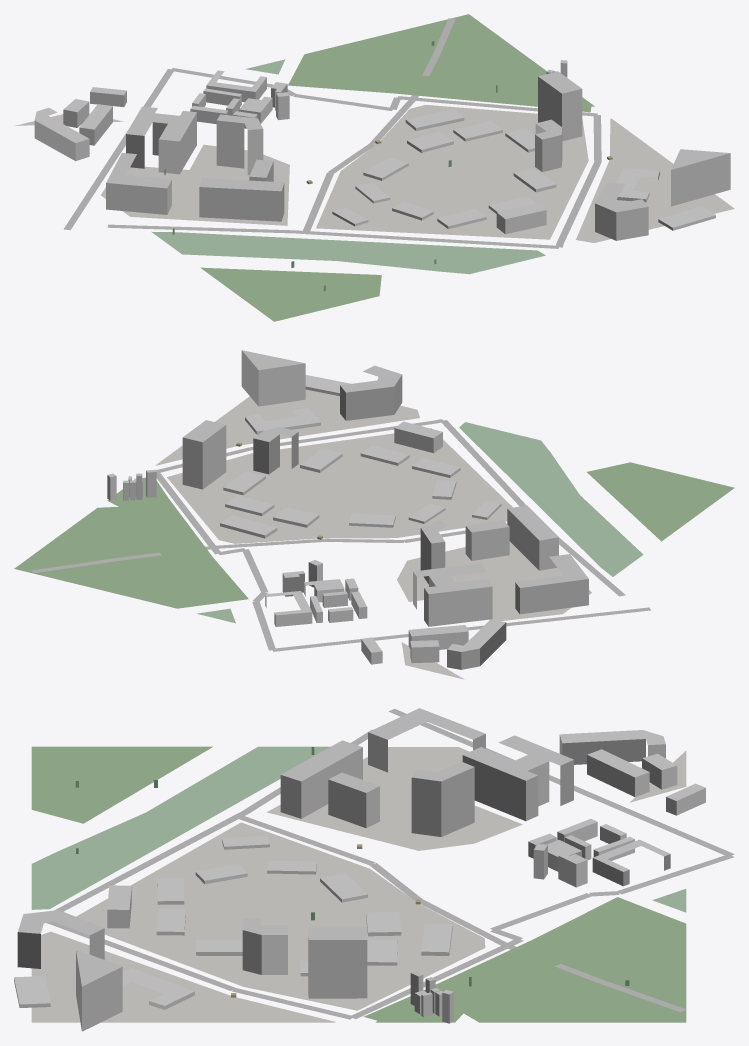
3 renders of one model, top to bottom at view 1: azimuth 30°, elevation 25°; view 2: azimuth 150°, elevation 25°; view 3: azimuth 270°, elevation 25°, orthographic. The views are drawn at different scales.
Size of the model in its own units: 586 by 50.39 by 551.
